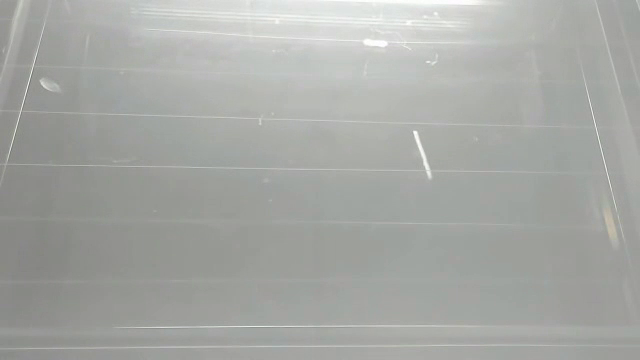alpha: (408, 126, 442, 185), (34, 73, 67, 96), (359, 36, 393, 50)
